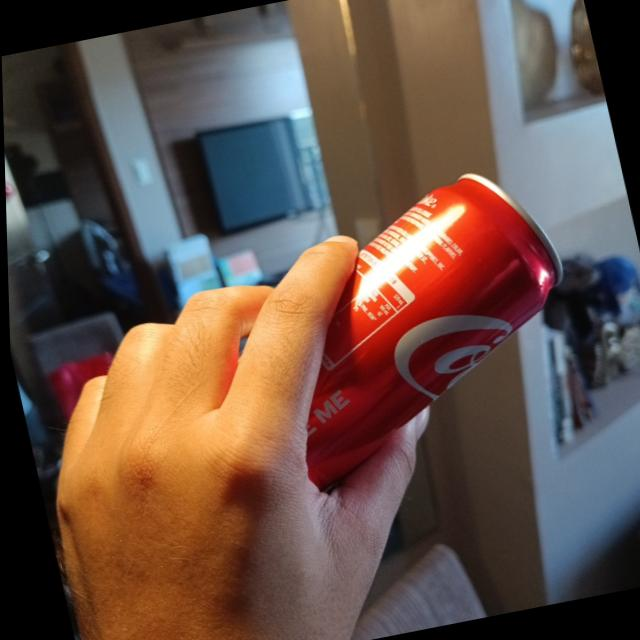coke: (235, 160, 595, 486)
